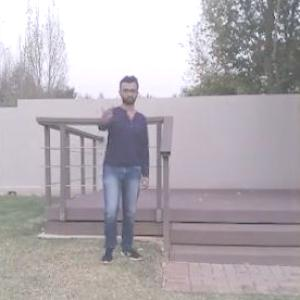takeoff-hand: (92, 97, 118, 126)
